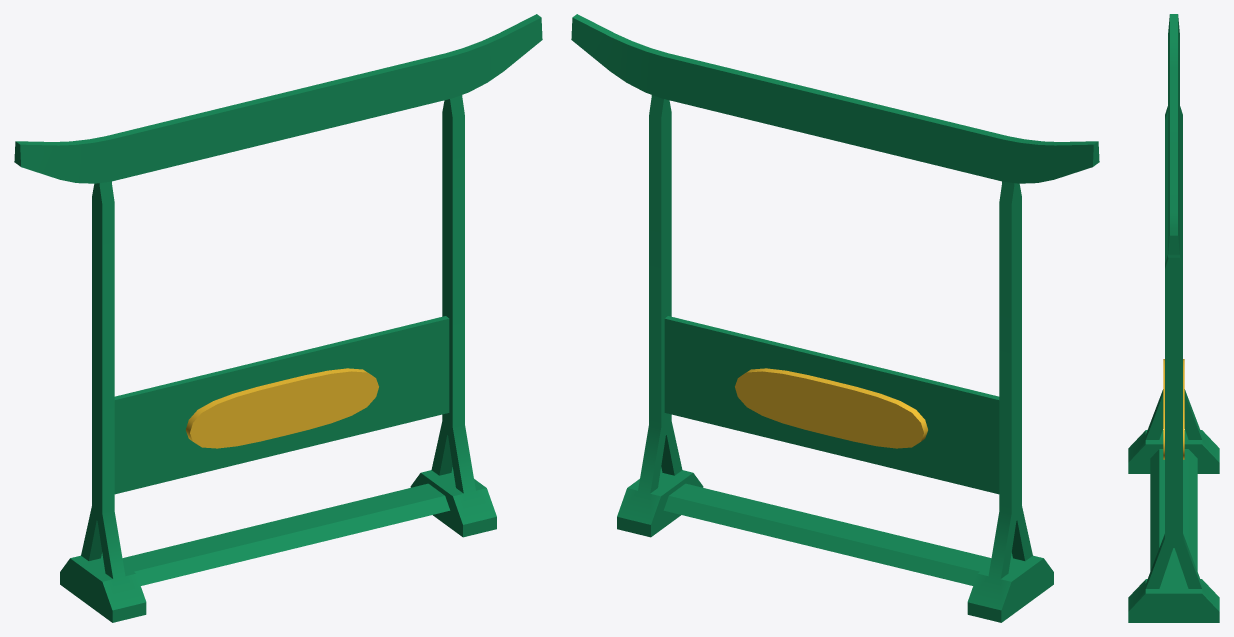
File: 35_giatreokhan_lv2.fbx
3 views of the same model, side by side, from view 1: azimuth 30°, elevation 25°; view 2: azimuth 150°, elevation 25°; view 3: azimuth 270°, elevation 25° (orthographic). The views are drawn at different scales.
Parts seen in each view (by area): view 1: 35_giatreokhan_lv2; view 2: 35_giatreokhan_lv2; view 3: 35_giatreokhan_lv2.
Part boxes in pixels (x1,y1,x2,y2): 35_giatreokhan_lv2: (14,14,542,622); 35_giatreokhan_lv2: (571,14,1099,622); 35_giatreokhan_lv2: (1128,14,1219,622).
Size of the model in its own units: 299 by 262 by 52.22.
